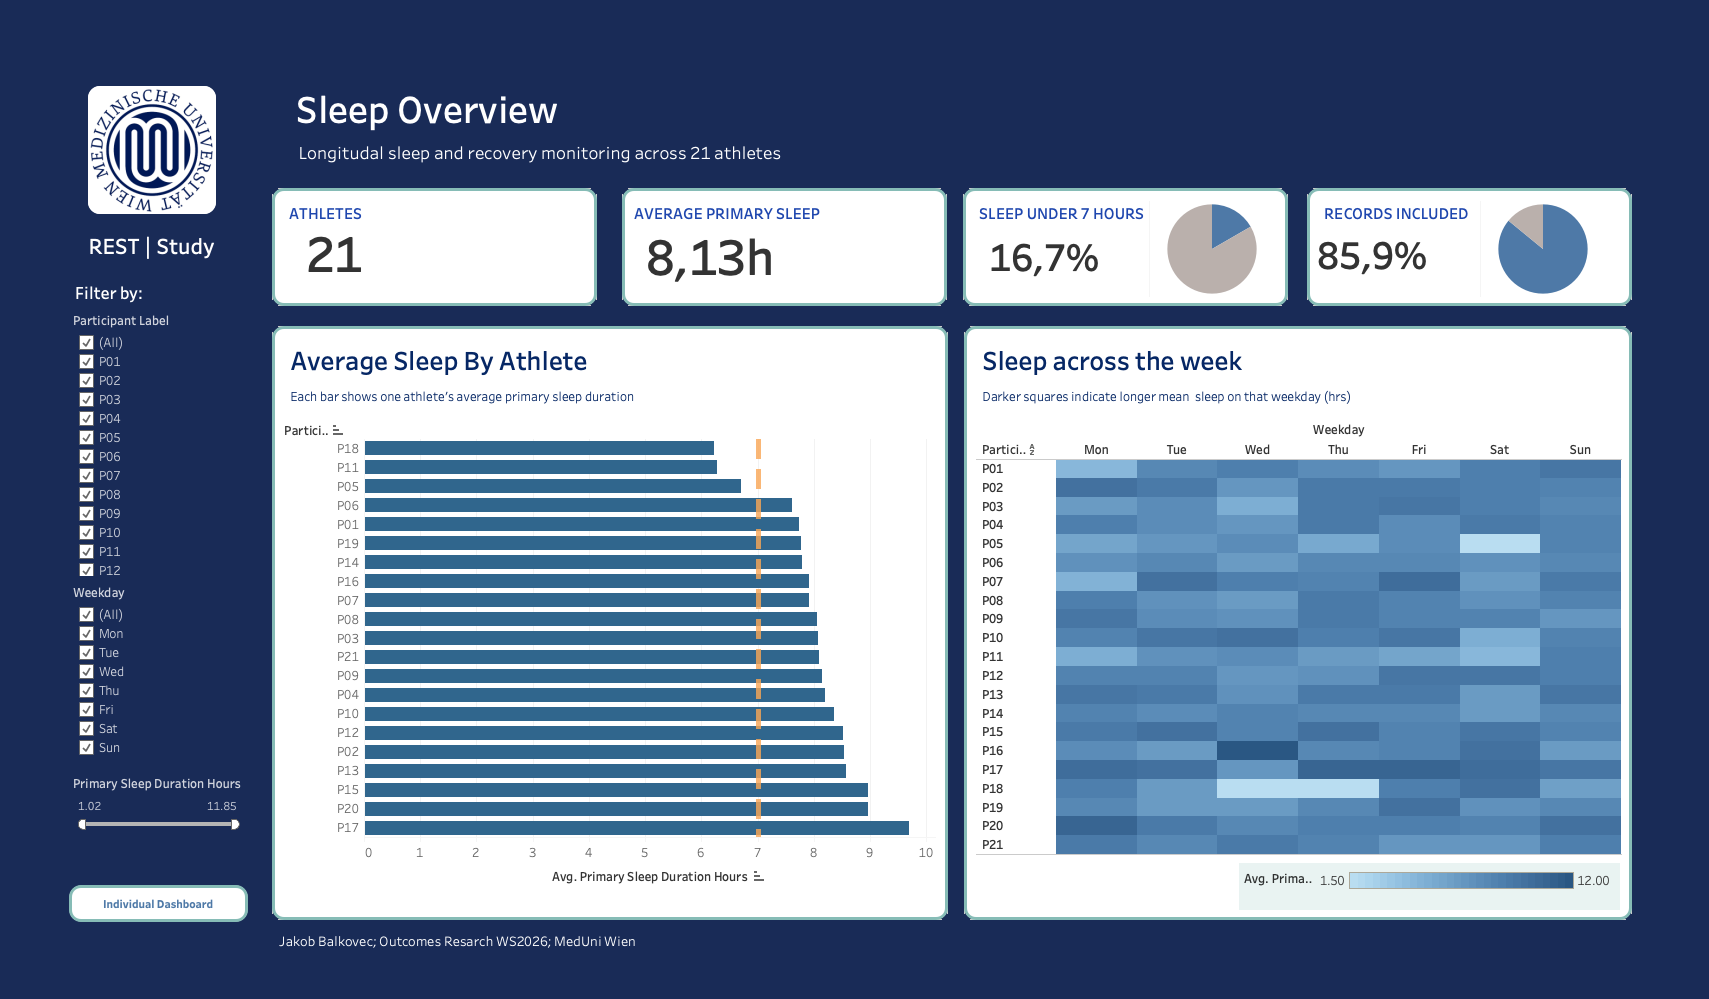

Layout of this report page (visuals, bound fields, positions):
{"tool":"tableau","page":{"name":"Overview","canvas":[1600,900],"ordinal":1},"visuals":[{"type":"image","param":"/Users/jbalkovec/Desktop/MSc/OutcomesResearch/MUWlogo.png","box":[36,30,128,128]},{"type":"text","box":[242,30,1100,45]},{"type":"text","box":[244,79,519,35]},{"type":"text","box":[235,145,300,24]},{"type":"text","box":[580,145,300,24]},{"type":"text","box":[925,145,300,24]},{"type":"worksheet","title":"UnderSevenPie","mark":"Pie","rows":["Calculation_0714540268769283"],"box":[1097,145,126,96]},{"type":"text","box":[1270,145,300,24]},{"type":"worksheet","title":"EligibleRecordsPie","mark":"Pie","rows":["Calculation_0714540268769283"],"box":[1428,145,126,96]},{"type":"text","box":[34,163,162,54]},{"type":"worksheet","title":"KPI-Participants","mark":"Automatic","box":[225,167,95,70]},{"type":"worksheet","title":"KPI-Mean Sleep","mark":"Automatic","box":[588,167,170,70]},{"type":"worksheet","title":"KPI-Eligible Records","mark":"Automatic","box":[1260,173,162,70]},{"type":"worksheet","title":"KPI-Short Sleep","mark":"Automatic","box":[932,175,180,70]},{"type":"text","box":[17,222,179,30]},{"type":"filter","title":"MeanSleepChart","param":"[federated.02j40961im16wf1g5efyn0gvjkn9].[none:participant_label:nk]","box":[17,252,179,272]},{"type":"text","box":[236,286,644,36]},{"type":"text","box":[928,286,636,36]},{"type":"text","box":[236,326,644,28]},{"type":"text","box":[928,326,636,28]},{"type":"worksheet","title":"MeanSleepChart","mark":"Bar","rows":["participant_label"],"cols":["primary_sleep_duration_hours"],"box":[232,363,652,473]},{"type":"worksheet","title":"HeatmapChart","mark":"Square","rows":["participant_label"],"cols":["weekday"],"box":[924,363,646,436]},{"type":"filter","title":"HeatmapChart","param":"[federated.02j40961im16wf1g5efyn0gvjkn9].[none:weekday:nk]","box":[17,524,179,191]},{"type":"filter","title":"MeanSleepChart","param":"[federated.02j40961im16wf1g5efyn0gvjkn9].[none:primary_sleep_duration_hours:qk]","box":[17,715,179,114]},{"type":"legend","title":"HeatmapChart","param":"[federated.02j40961im16wf1g5efyn0gvjkn9].[avg:primary_sleep_duration_hours:qk]","box":[1187,807,381,47]},{"type":"dashboard-object","box":[20,832,173,31]},{"type":"text","box":[225,872,1350,25]}]}

Visuals, with their boxes on the page's 1600x900 design canvas (x1, y1, x2, y2). These are canvas units, not pixel positions in the 1709x999 screenshot, which may show the page scaled, cropped or inside an application window:
image: [36,30,164,158]
text: [242,30,1342,75]
text: [244,79,763,114]
text: [235,145,535,169]
text: [580,145,880,169]
text: [925,145,1225,169]
"UnderSevenPie" worksheet (Pie marks): [1097,145,1223,241]
text: [1270,145,1570,169]
"EligibleRecordsPie" worksheet (Pie marks): [1428,145,1554,241]
text: [34,163,196,217]
"KPI-Participants" worksheet: [225,167,320,237]
"KPI-Mean Sleep" worksheet: [588,167,758,237]
"KPI-Eligible Records" worksheet: [1260,173,1422,243]
"KPI-Short Sleep" worksheet: [932,175,1112,245]
text: [17,222,196,252]
"MeanSleepChart" filter: [17,252,196,524]
text: [236,286,880,322]
text: [928,286,1564,322]
text: [236,326,880,354]
text: [928,326,1564,354]
"MeanSleepChart" worksheet (Bar marks): [232,363,884,836]
"HeatmapChart" worksheet (Square marks): [924,363,1570,799]
"HeatmapChart" filter: [17,524,196,715]
"MeanSleepChart" filter: [17,715,196,829]
"HeatmapChart" legend: [1187,807,1568,854]
dashboard-object: [20,832,193,863]
text: [225,872,1575,897]
